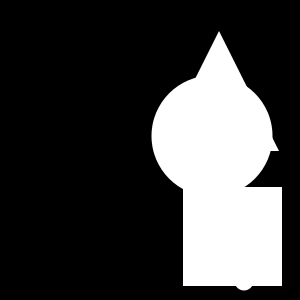circle: (183, 187, 282, 286)
rectangle: (152, 76, 272, 196), (235, 272, 254, 290)
triangle: (159, 31, 279, 151)
